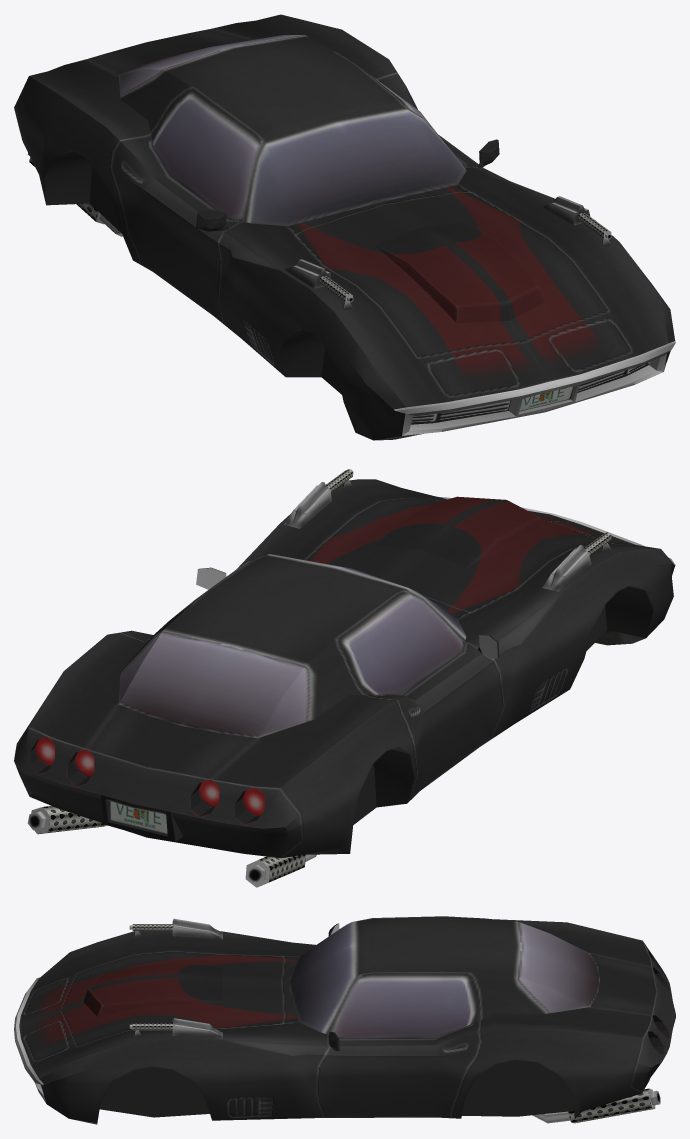
The model's file is Car.fbx.
3 renders of one model, top to bottom at view 1: azimuth 30°, elevation 25°; view 2: azimuth 150°, elevation 25°; view 3: azimuth 270°, elevation 25°, orthographic. The views are drawn at different scales.
Visible parts, largest first — view 1: Corvette:vette_body; view 2: Corvette:vette_body; view 3: Corvette:vette_body.
Part boxes in pixels (bbox=[...]): Corvette:vette_body: bbox=[14, 14, 675, 440]; Corvette:vette_body: bbox=[14, 469, 675, 887]; Corvette:vette_body: bbox=[14, 916, 675, 1124].
Bounding box in the file's own units: 8.47 × 4.82 × 19.86.
